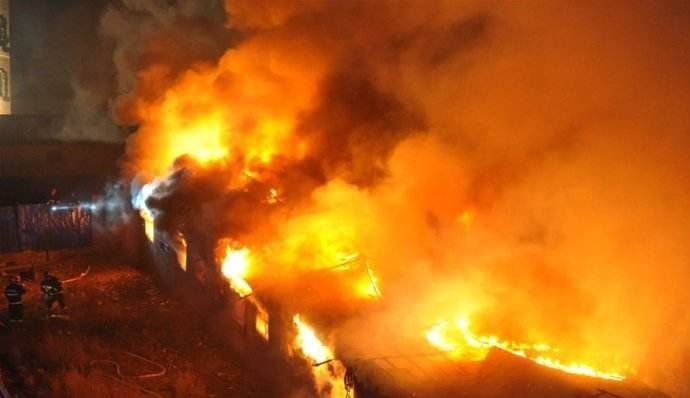fire: (419, 305, 633, 380), (286, 310, 352, 396)
